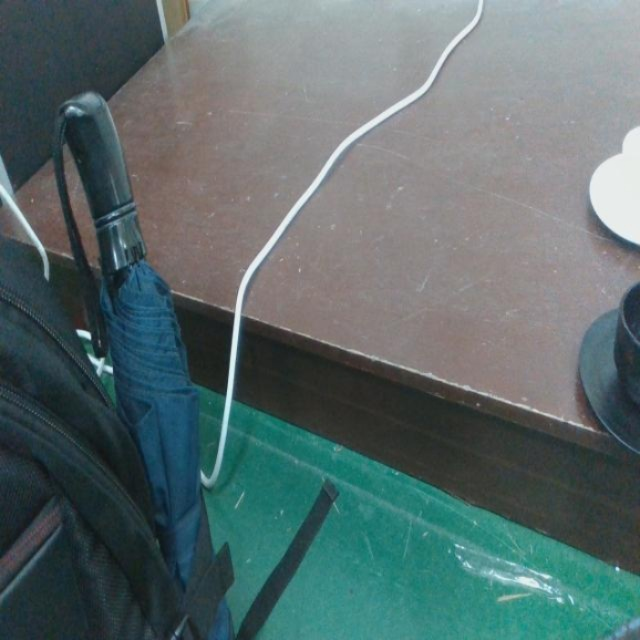black: (576, 275, 640, 459)
white: (587, 120, 640, 252)
